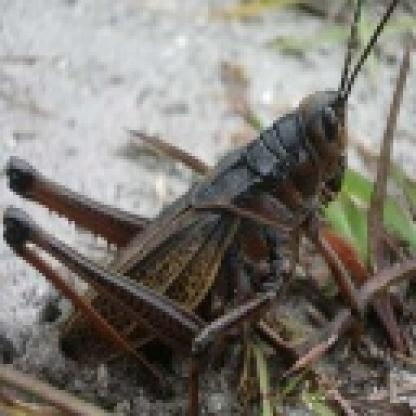grasshopper: (0, 11, 412, 373)
